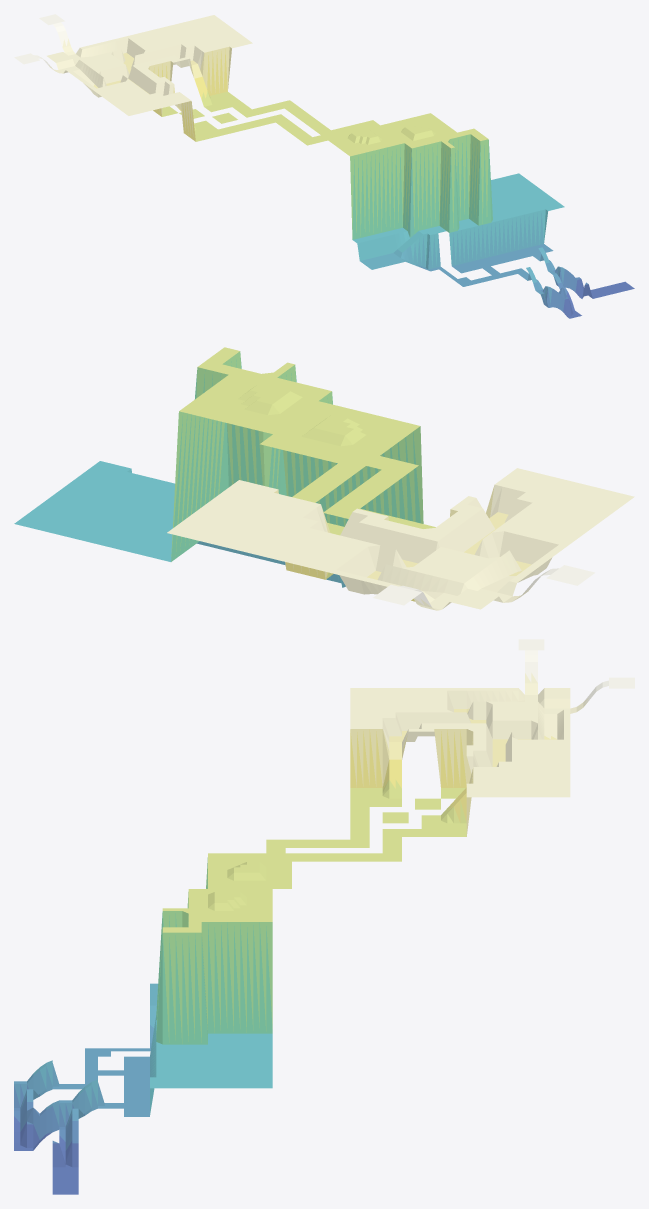
Rendered from interm.glb.
3 renders of one model, top to bottom at view 1: azimuth 30°, elevation 25°; view 2: azimuth 150°, elevation 25°; view 3: azimuth 270°, elevation 25°, orthographic. The views are drawn at different scales.
Parts seen in each view (by area): view 1: interm; view 2: interm; view 3: interm.
Part boxes in pixels (x1,y1,x2,y2): interm: (14, 14, 634, 318); interm: (14, 347, 634, 610); interm: (14, 639, 634, 1194).
Bounding box in the file's own units: 104 × 46.2 × 96.
